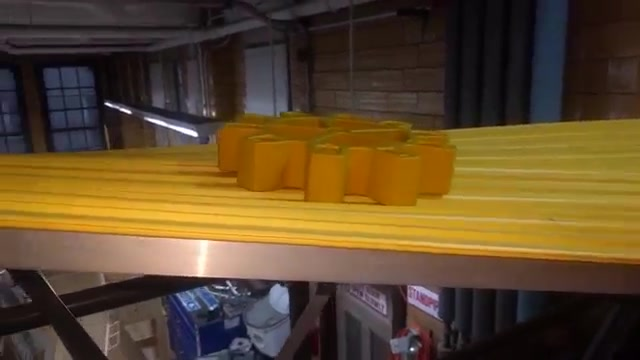gear: (222, 100, 460, 218)
